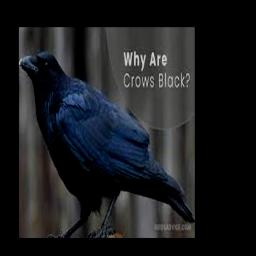Crow: (19, 52, 194, 236)
